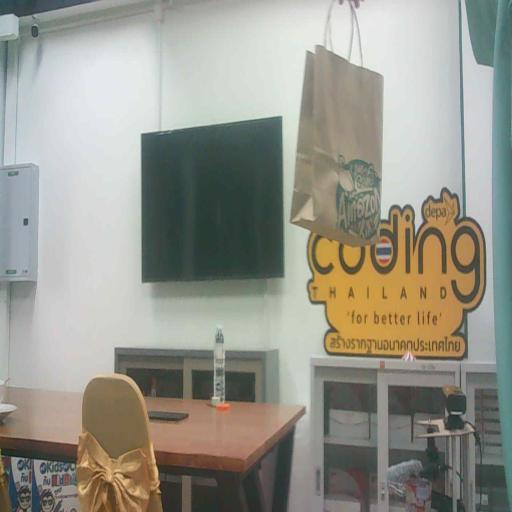bag: (283, 48, 390, 245)
